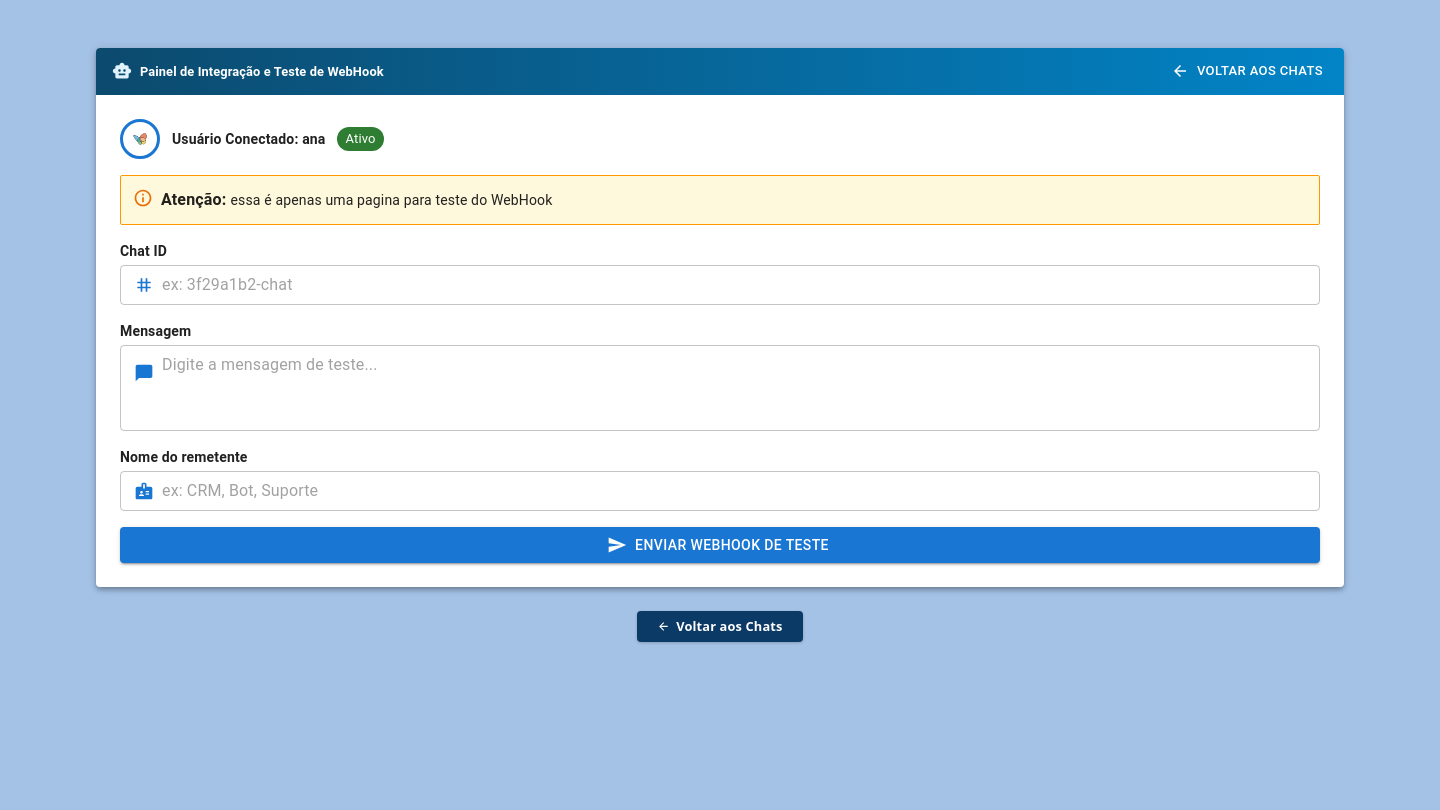
Test: WebhookTestPage › signs and submits the form, showing the created message on success
Expected: the text "Usuário Conectado: ana" is shown, top-left (172, 129), bottom-right (326, 149)
In the field labelled "Chat ID": [741, 285] box top-left (162, 265), bottom-right (1320, 305), type "chat-1"
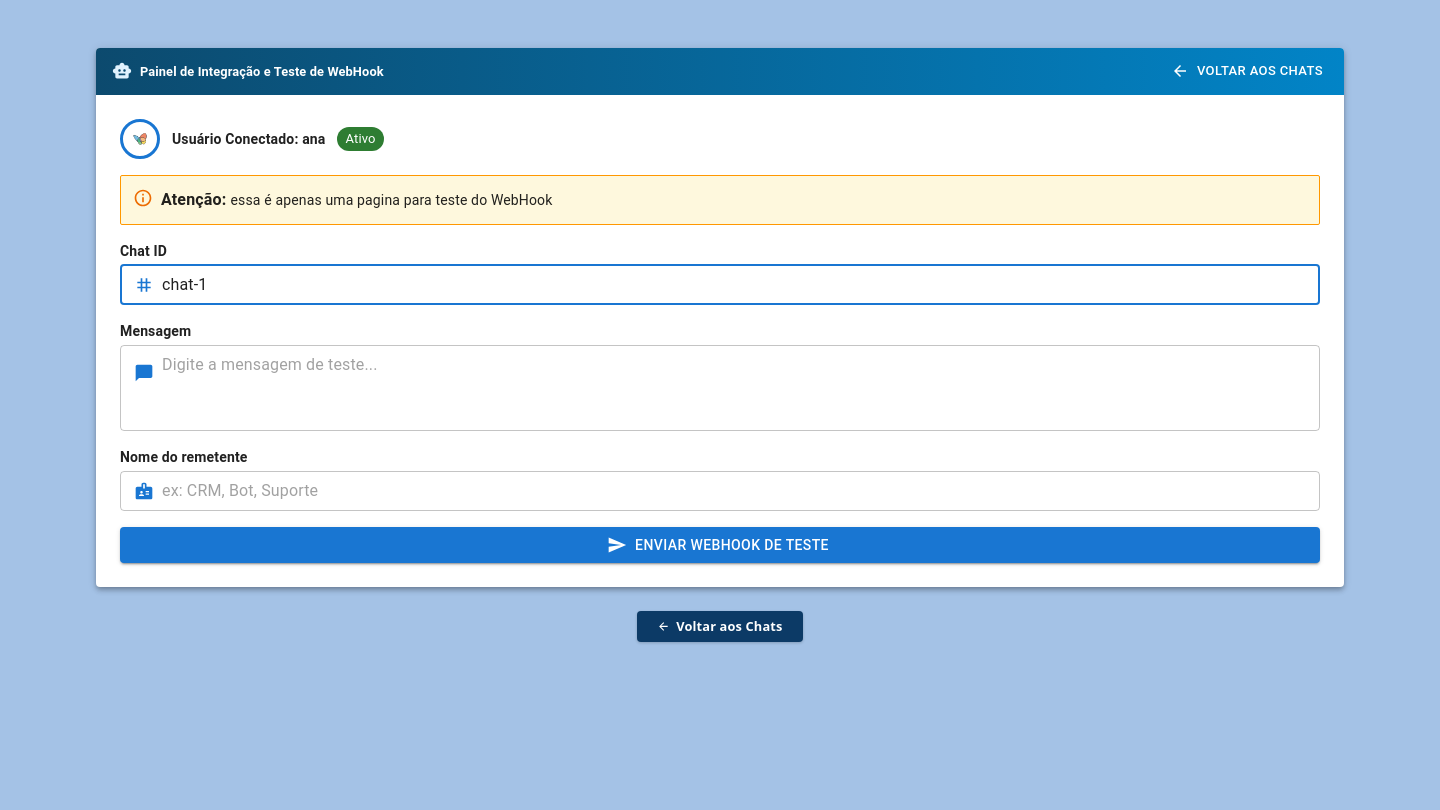
In the text box labelled "Mensagem": [734, 388] box top-left (162, 353), bottom-right (1306, 422), type "oi"
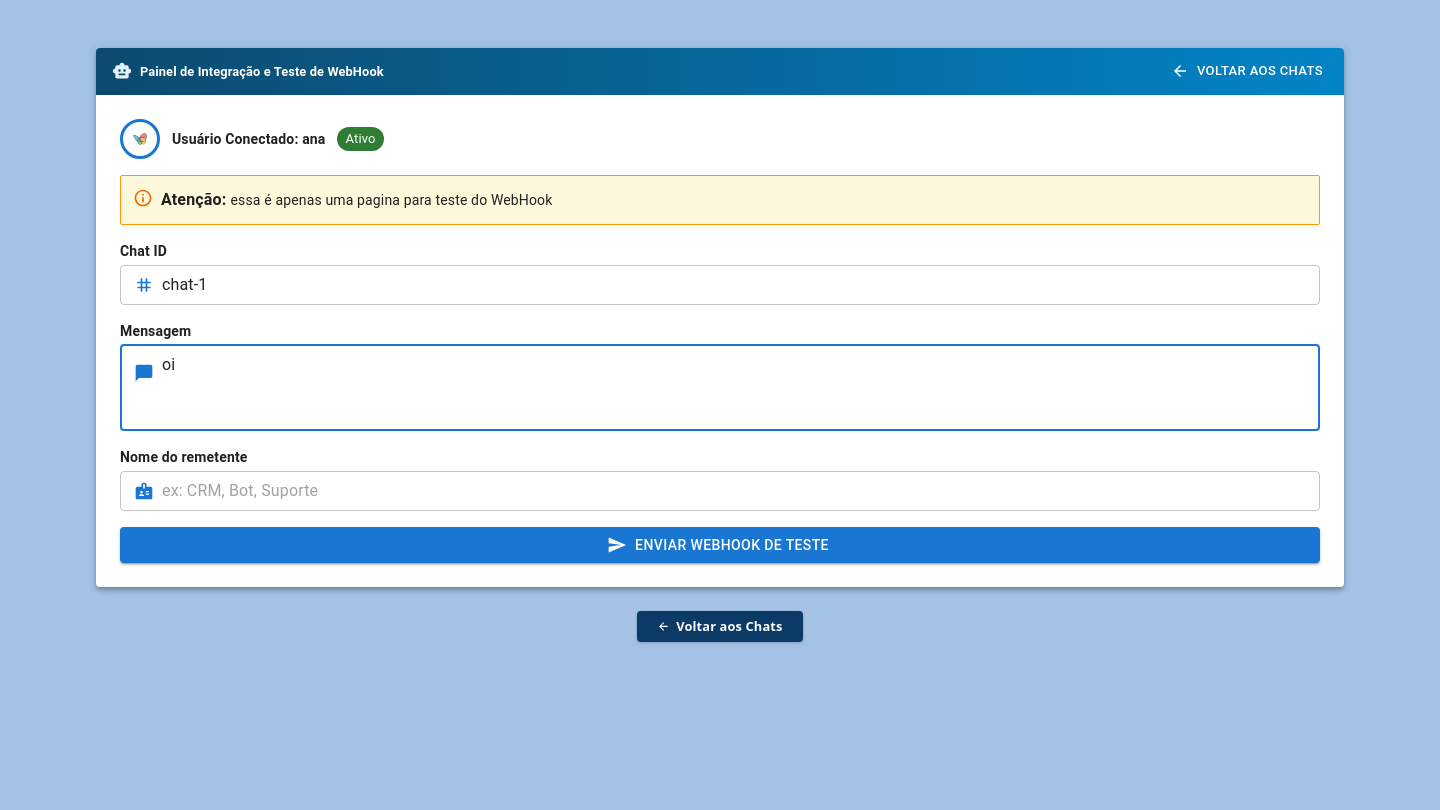
In the field labelled "Nome do remetente": [741, 491] box top-left (162, 471), bottom-right (1320, 511), type "crm"
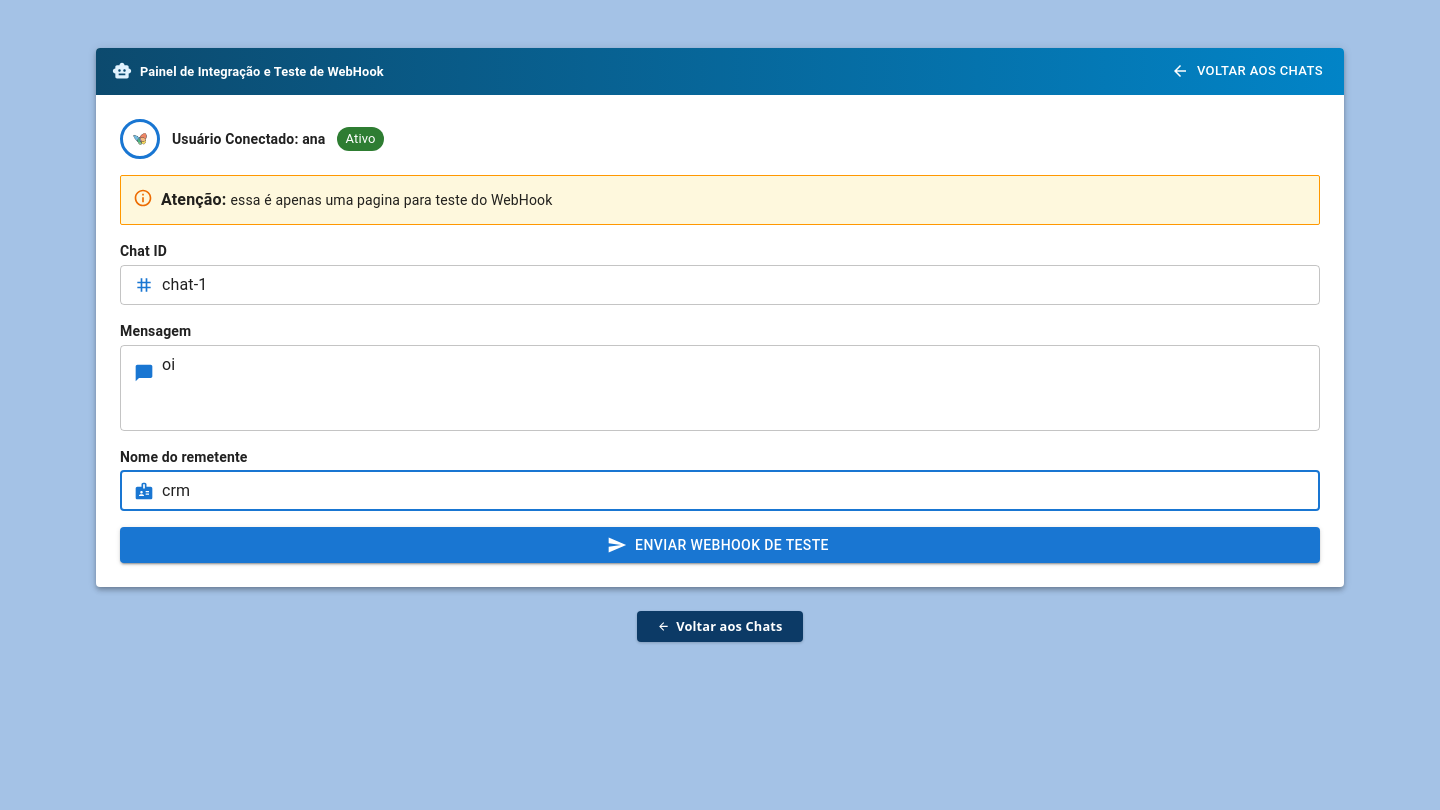
Click the button "Enviar WebHook de Teste": [720, 545] box top-left (120, 527), bottom-right (1320, 563)
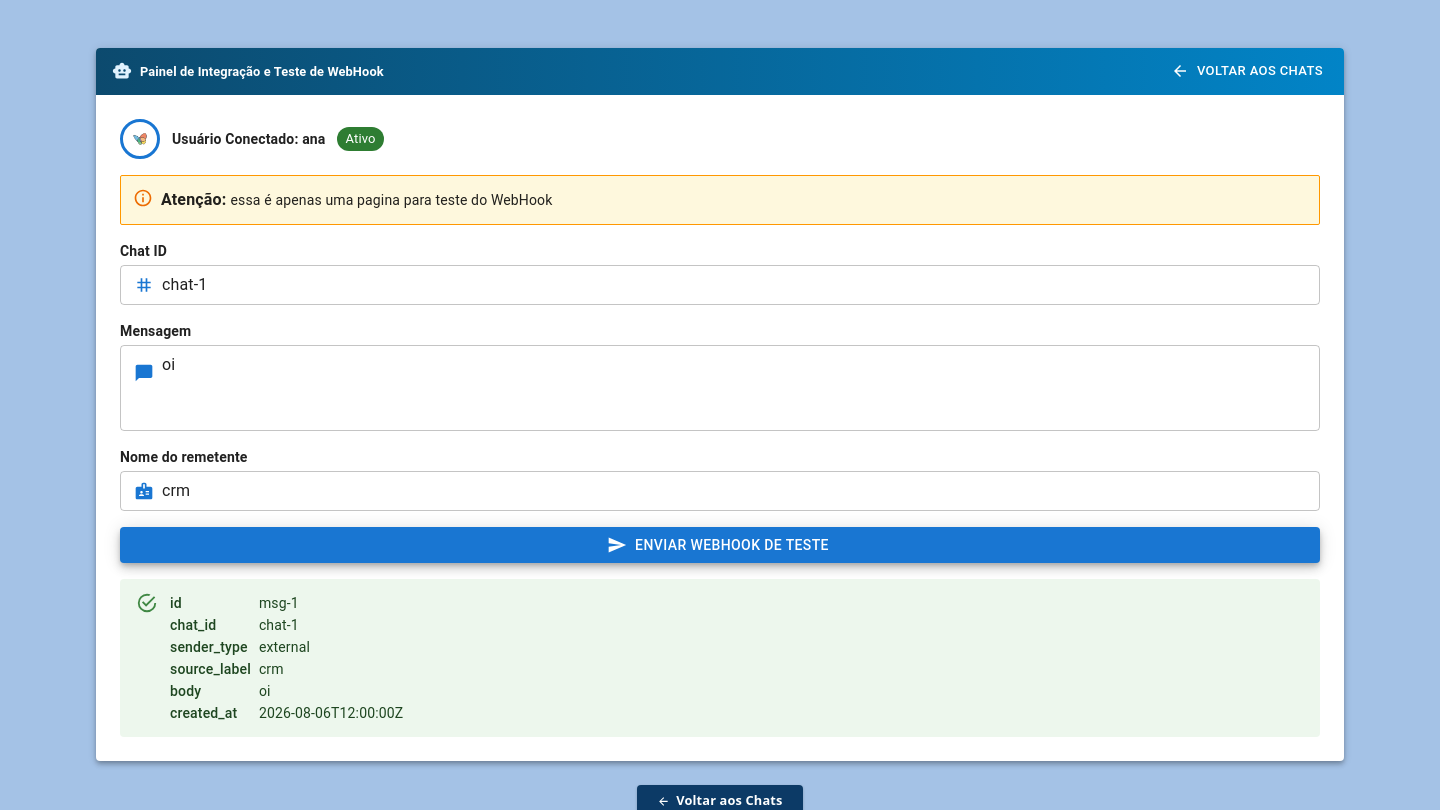
Expected: the message shows "msg-1", top-left (259, 595), bottom-right (299, 611)
Expected: the message shows "oi", top-left (259, 683), bottom-right (271, 699)
Expected: the message shows "external", top-left (259, 639), bottom-right (310, 655)
